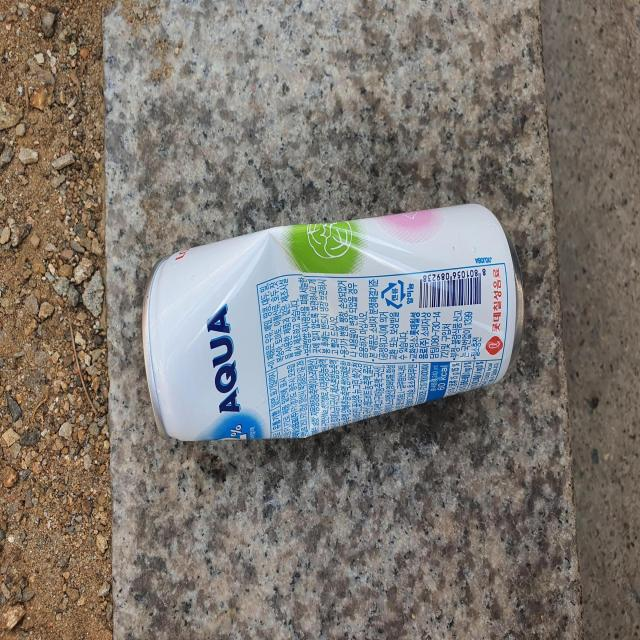can: (142, 204, 525, 441)
